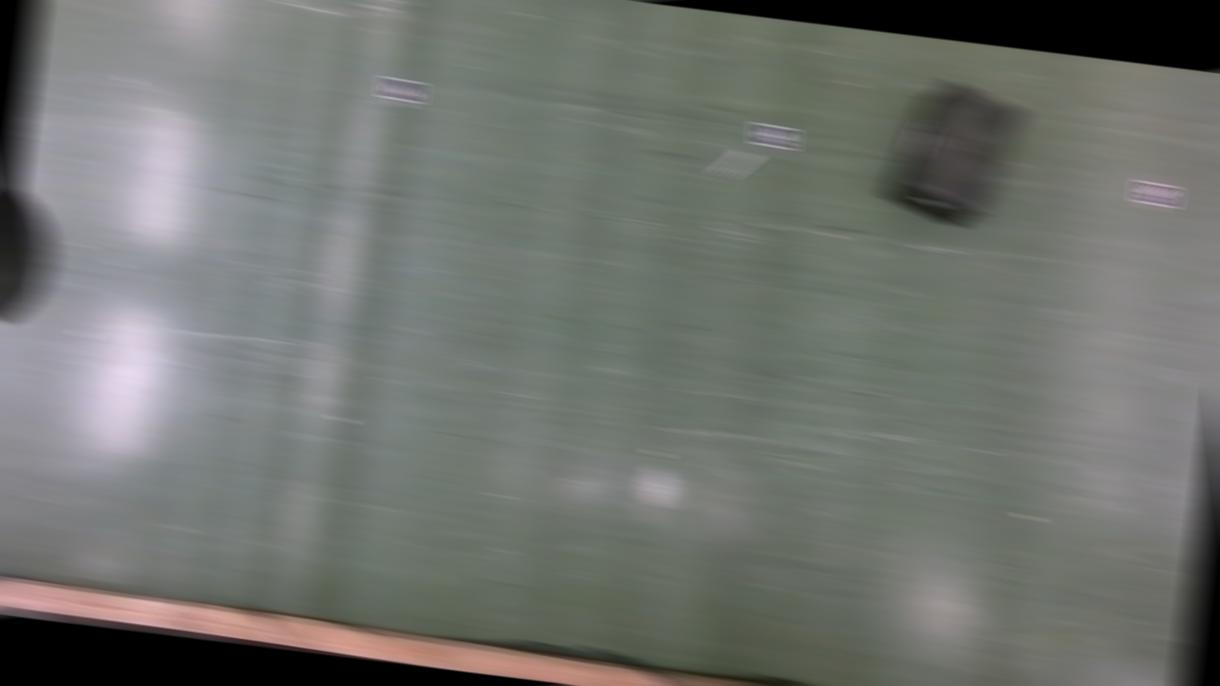probes: (716, 148, 755, 182)
rako: (880, 75, 1028, 235)
